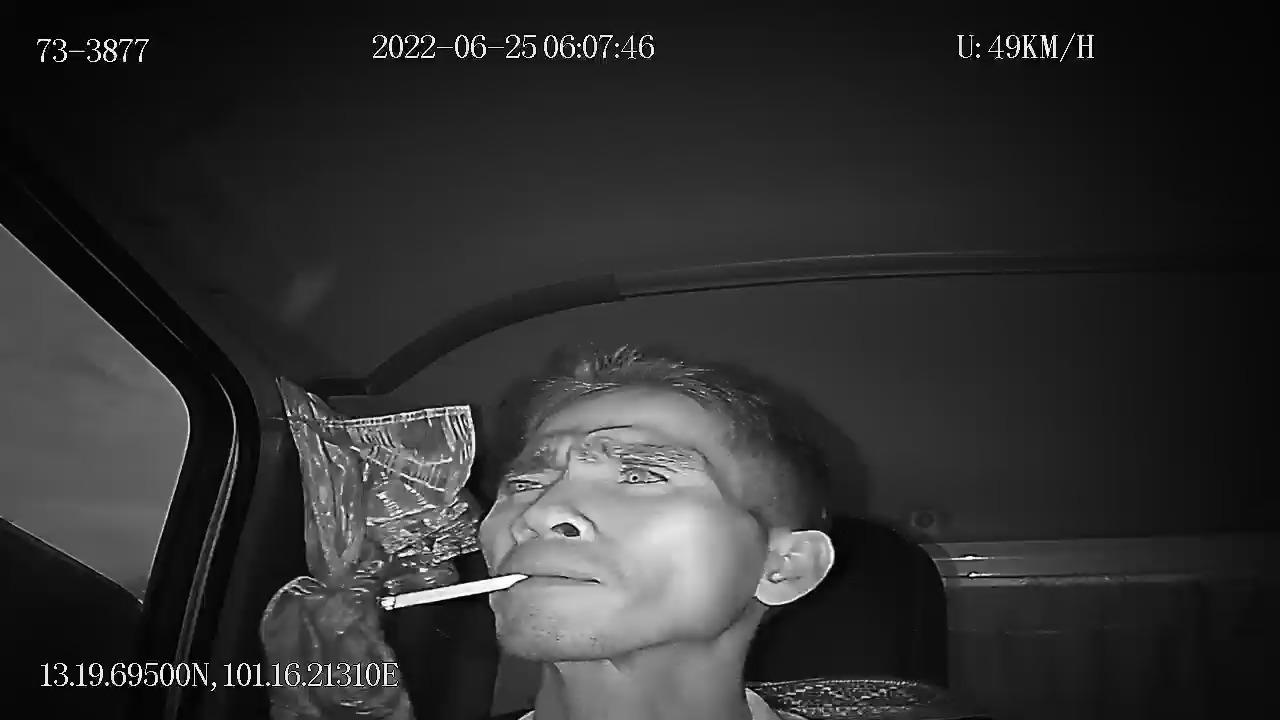Smoking: (361, 561, 552, 626)
